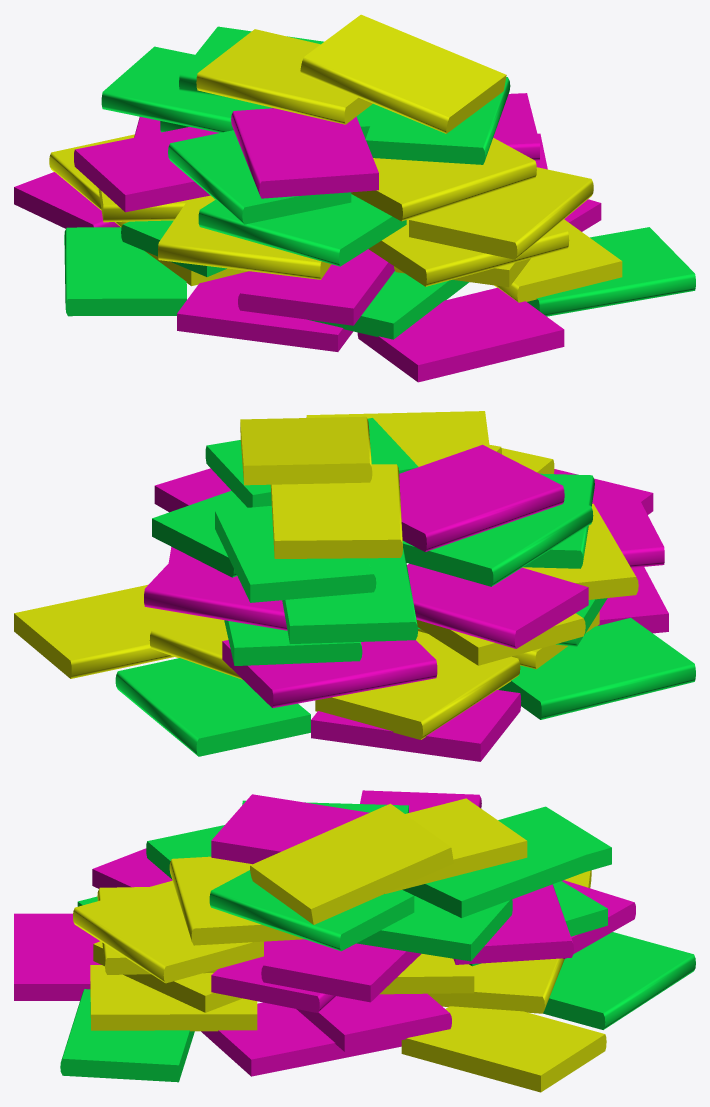
The model's file is books.fbx.
The picture shows the model from 3 angles, top to bottom: view 1: azimuth 30°, elevation 25°; view 2: azimuth 150°, elevation 25°; view 3: azimuth 270°, elevation 25°; orthographic projection. The views are drawn at different scales.
Visible parts, largest first — view 1: books; view 2: books; view 3: books.
Boxes of the visible parts, bbox=[...] form: books: bbox=[14, 14, 695, 382]; books: bbox=[14, 411, 695, 761]; books: bbox=[14, 790, 695, 1092].
Bounding box in the file's own units: 1033 × 308 × 1162.
